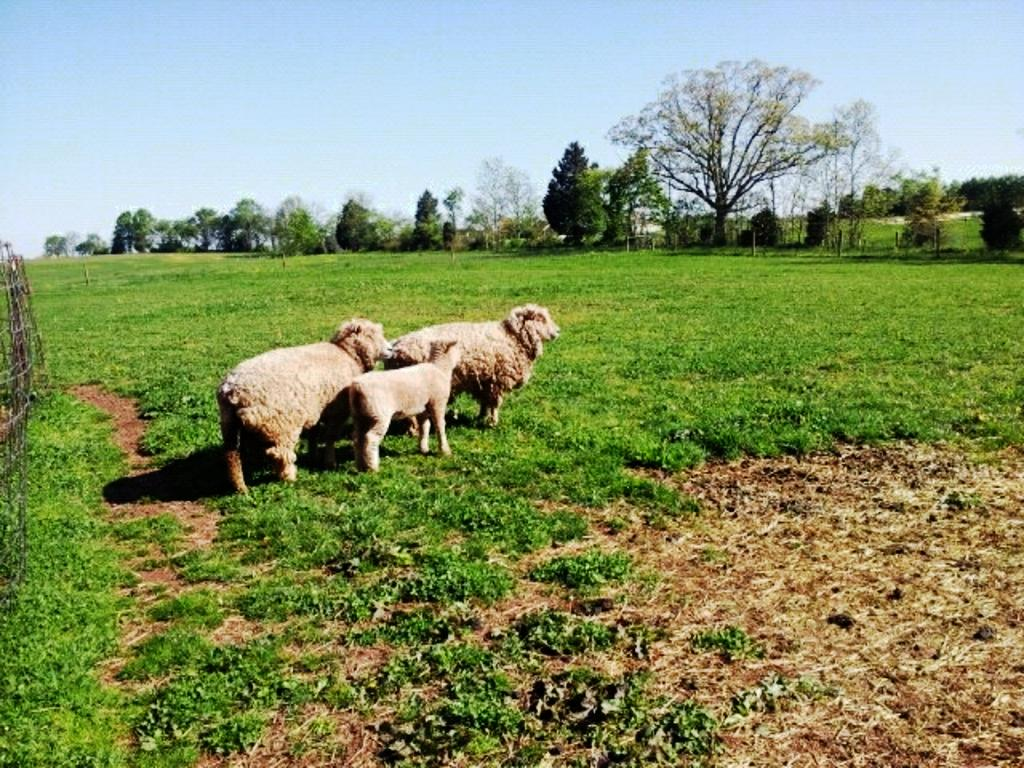Sheep: (212, 314, 402, 493), (378, 294, 574, 432), (338, 328, 468, 475)
